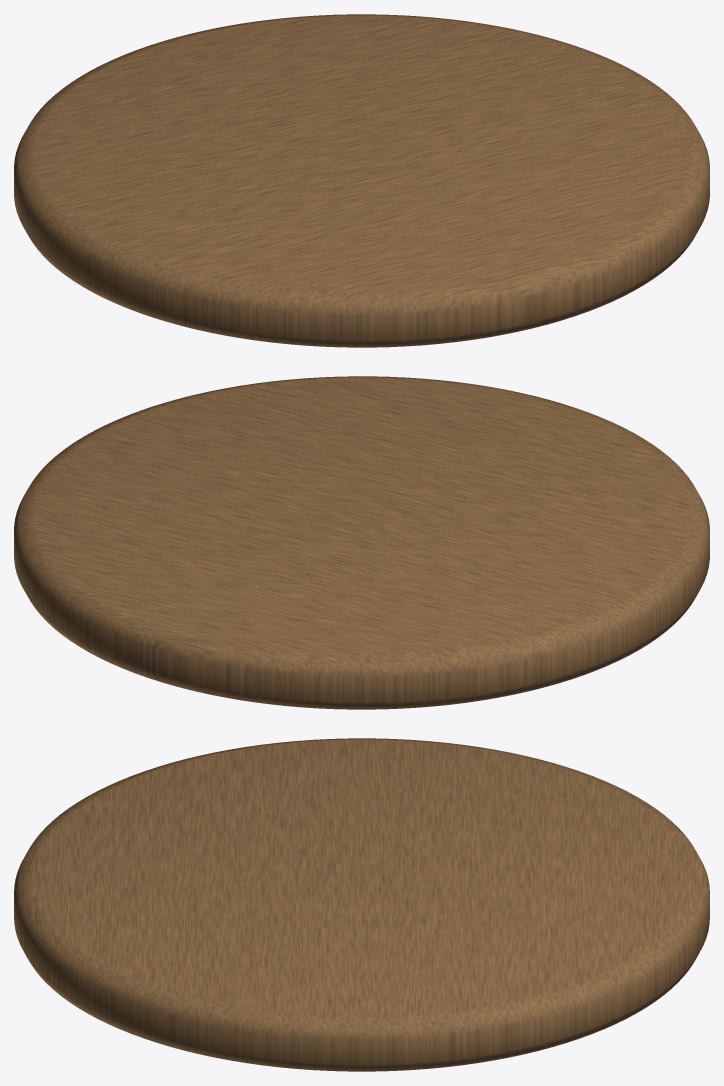
Rendered from studio.glb.
3 renders of one model, top to bottom at view 1: azimuth 30°, elevation 25°; view 2: azimuth 150°, elevation 25°; view 3: azimuth 270°, elevation 25°, orthographic.
Parts seen in each view (by area): view 1: Studio_Coaster; view 2: Studio_Coaster; view 3: Studio_Coaster.
Part boxes in pixels (x1,y1,x2,y2): Studio_Coaster: (14, 14, 709, 347); Studio_Coaster: (14, 376, 709, 709); Studio_Coaster: (14, 738, 709, 1071).
Size of what is drawn, in the model's own units: 0.13 by 0.011 by 0.13.
Materials: 1 (1 with a texture image).
